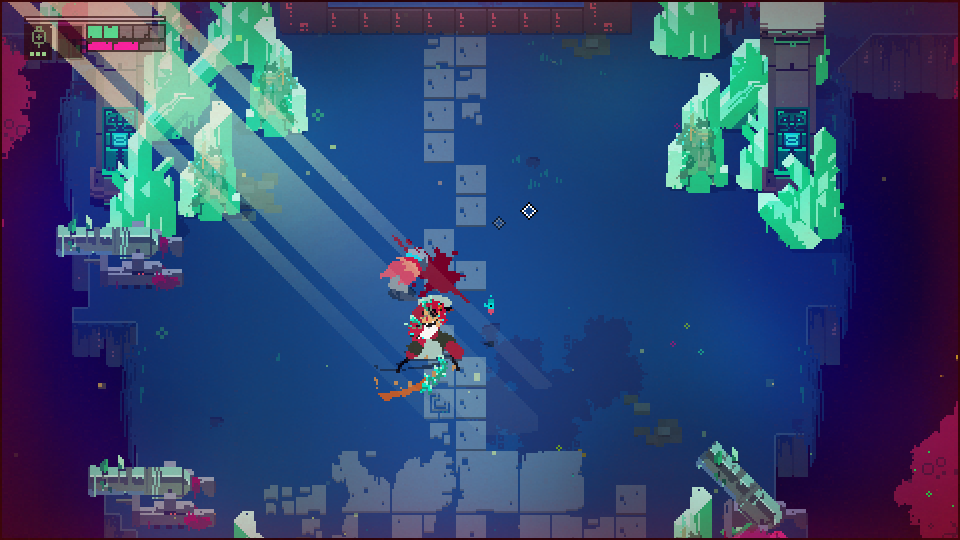hanged_man: (373, 296, 472, 411)
player: (379, 246, 430, 300)
